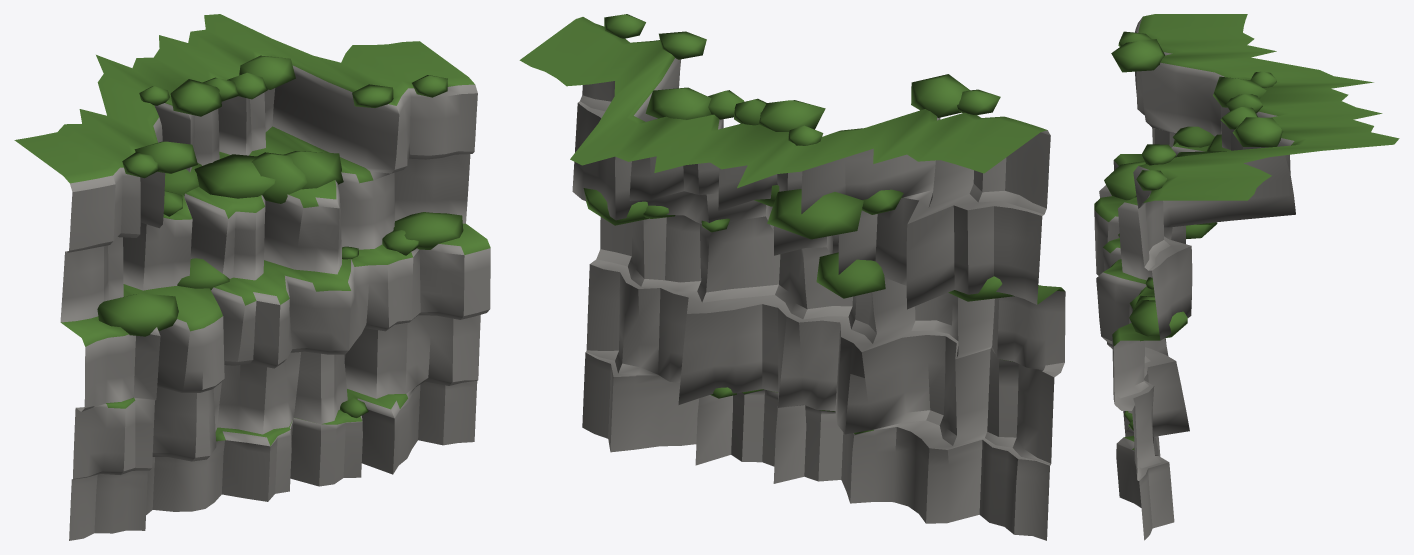
File: cliff_ledge_30.glb
The picture shows the model from 3 angles, left to right: view 1: azimuth 30°, elevation 25°; view 2: azimuth 150°, elevation 25°; view 3: azimuth 270°, elevation 25°; orthographic projection. The views are drawn at different scales.
Visible parts, largest first — view 1: cliff_ledge_30; view 2: cliff_ledge_30; view 3: cliff_ledge_30.
Part boxes in pixels (x1,y1,x2,y2): cliff_ledge_30: (14,14,490,540); cliff_ledge_30: (519,14,1065,540); cliff_ledge_30: (1094,14,1399,540).
Size of the model in its own units: 40 by 35.65 by 27.65.
